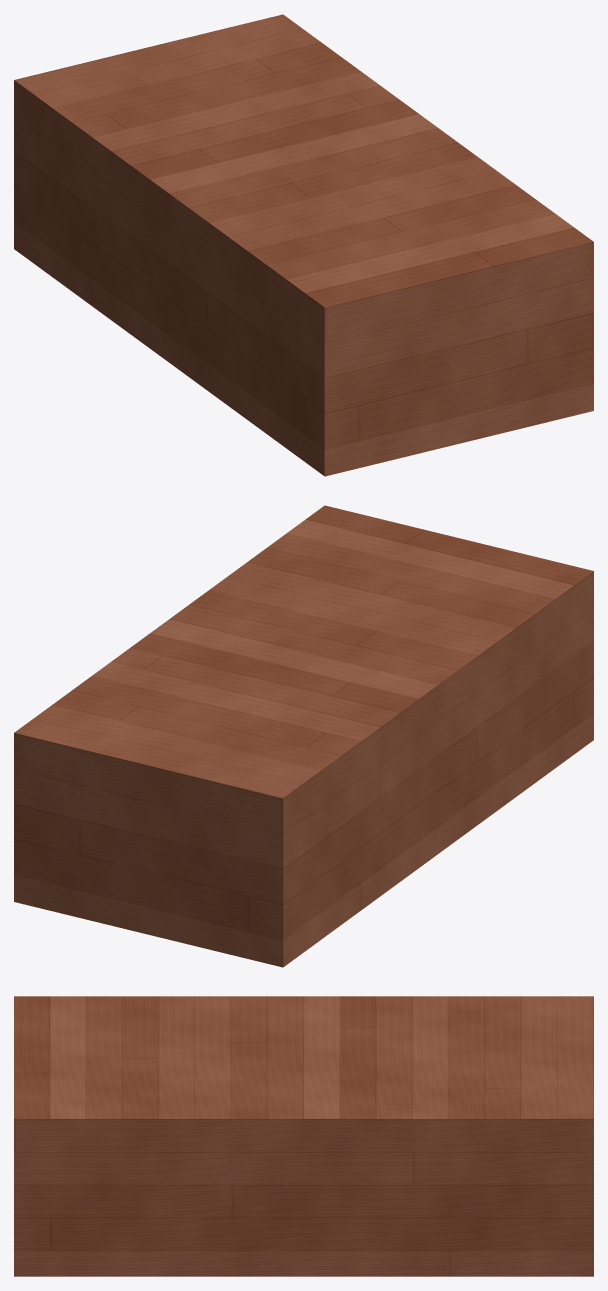
Rendered from SM_Theater_Stage_Edge2.fbx.
3 renders of one model, top to bottom at view 1: azimuth 30°, elevation 25°; view 2: azimuth 150°, elevation 25°; view 3: azimuth 270°, elevation 25°, orthographic. The views are drawn at different scales.
Parts seen in each view (by area): view 1: SM_Theater_Stage_Edge2_LOD0; view 2: SM_Theater_Stage_Edge2_LOD0; view 3: SM_Theater_Stage_Edge2_LOD0.
Boxes of the visible parts, x1,y1,x2,y2 form: SM_Theater_Stage_Edge2_LOD0: (14, 14, 593, 476); SM_Theater_Stage_Edge2_LOD0: (14, 505, 593, 967); SM_Theater_Stage_Edge2_LOD0: (14, 996, 593, 1276).
Size of what is drawn, in the model's own units: 2 by 1.2 by 4.
